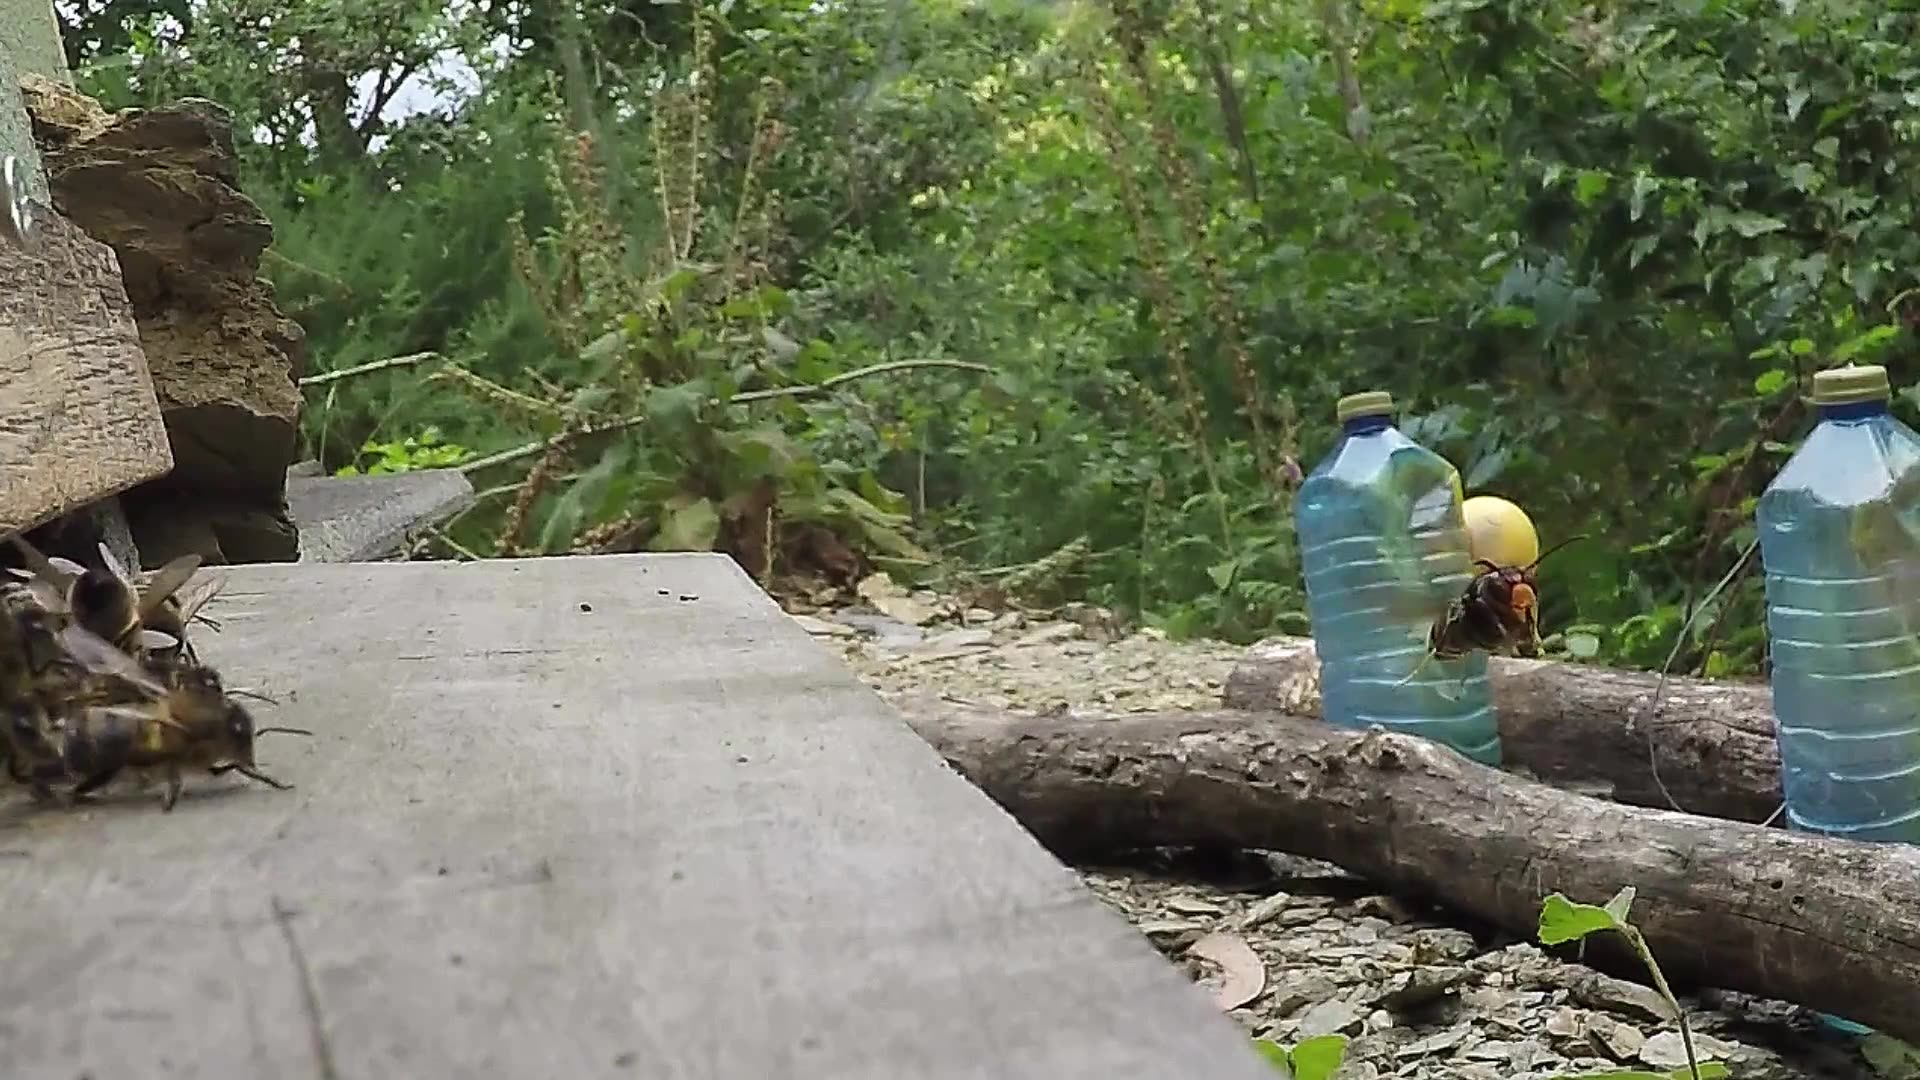bee: (1, 514, 313, 825)
hornet: (1414, 550, 1575, 674)
